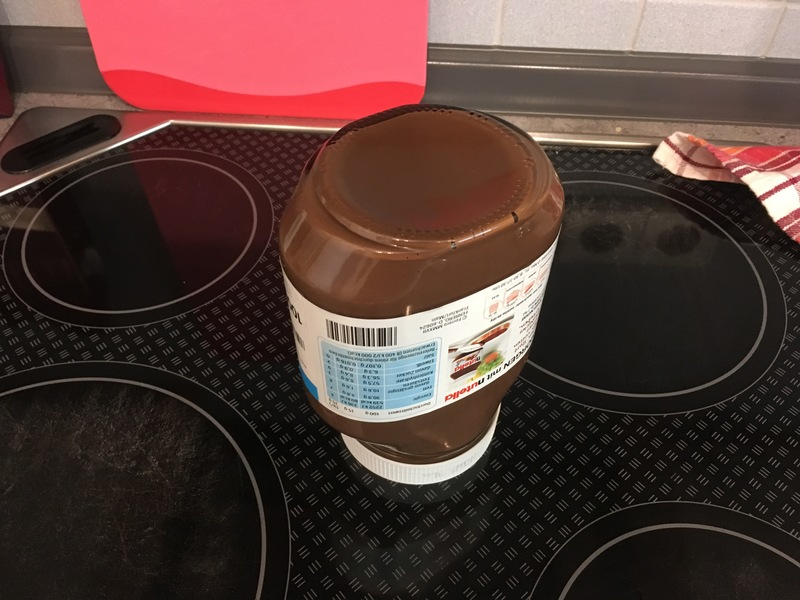nutella: (279, 105, 565, 489)
